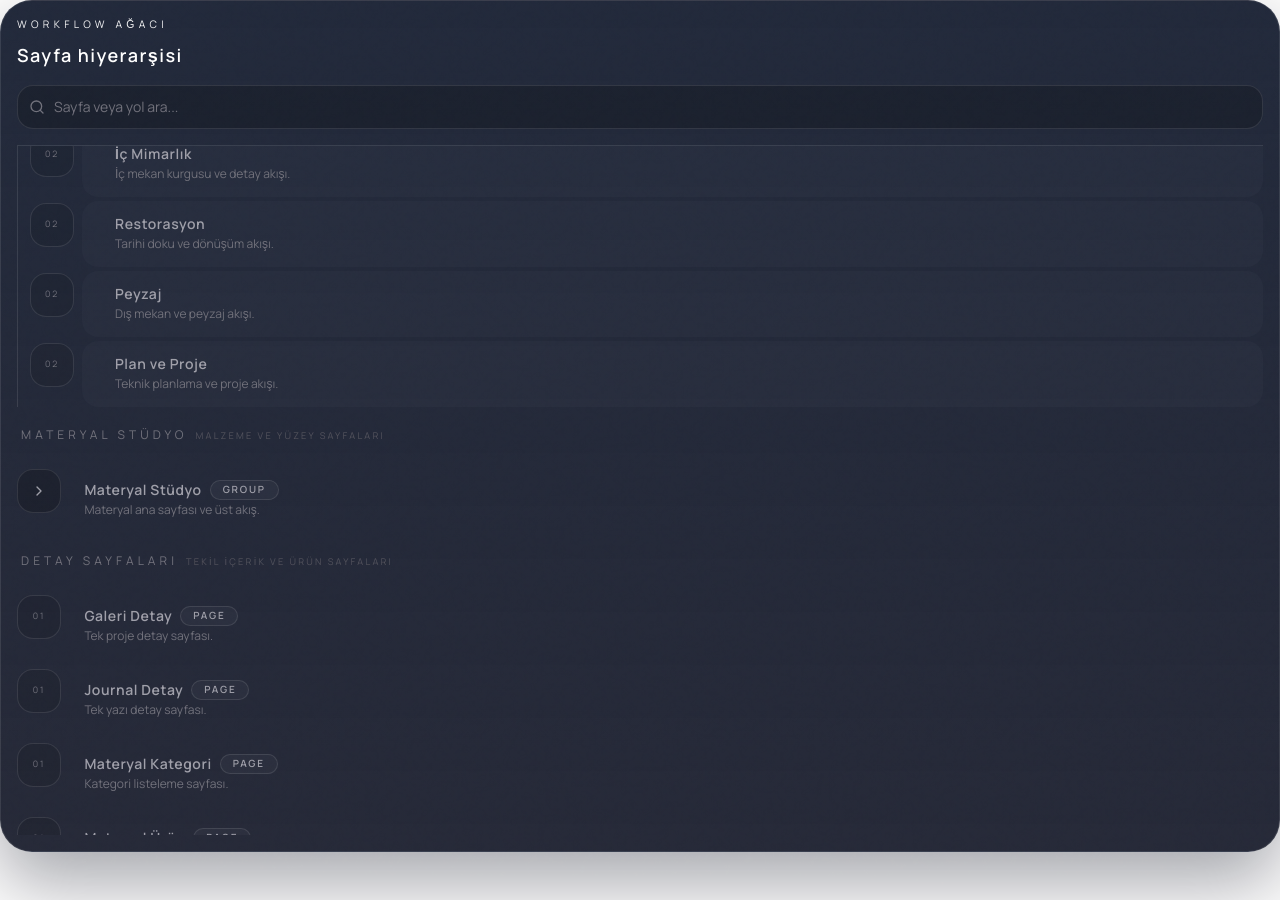
Test case: WorkflowSidebar › renders hierarchical pages and child routes
This screenshot has width=1280, height=900.
(page scrolled)
Click the button named "Materyal Stüdyo alt öğelerini aç": click(39, 491) [17,469,61,513]
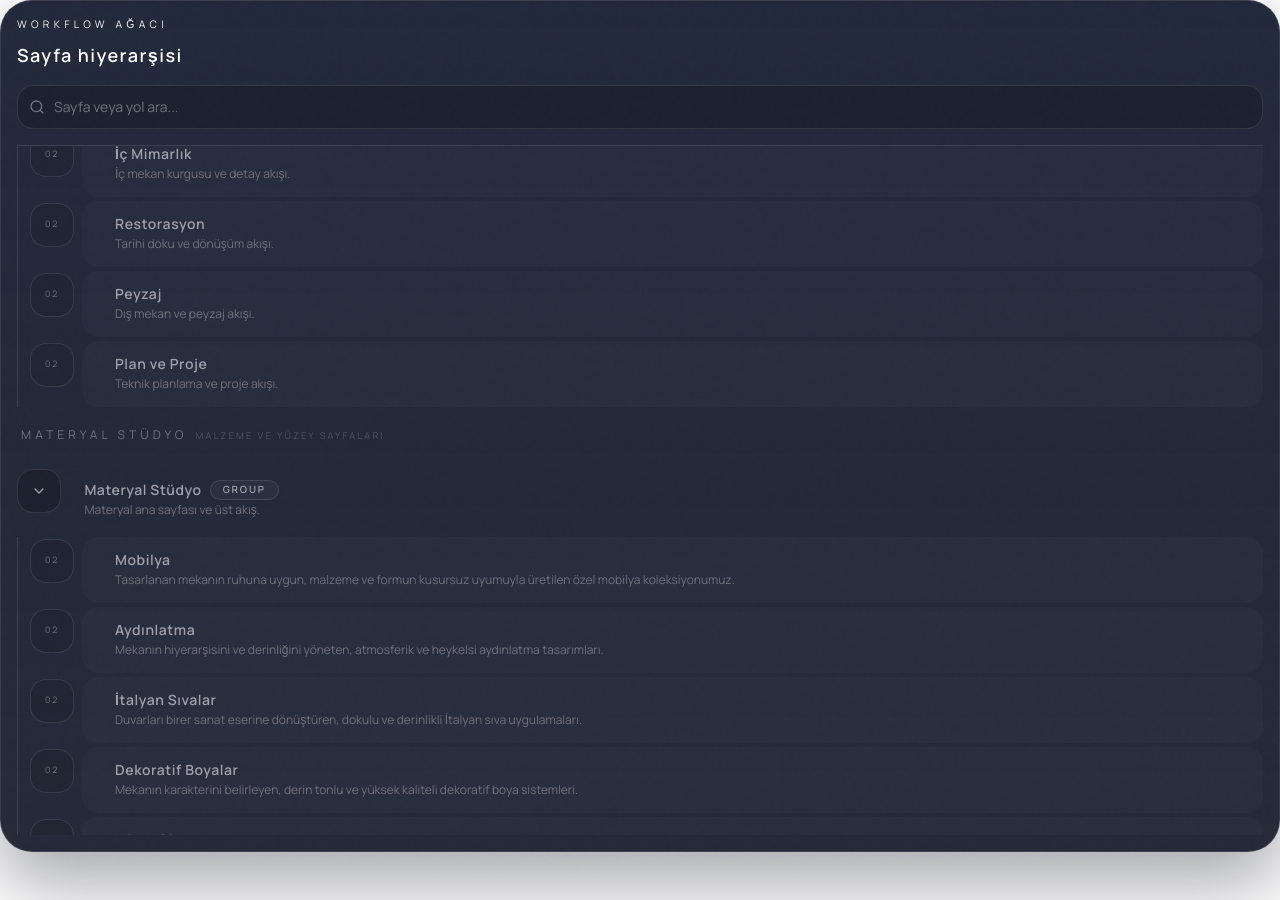
Expected: the text "Mobilya" is shown, [115,550,171,570]
